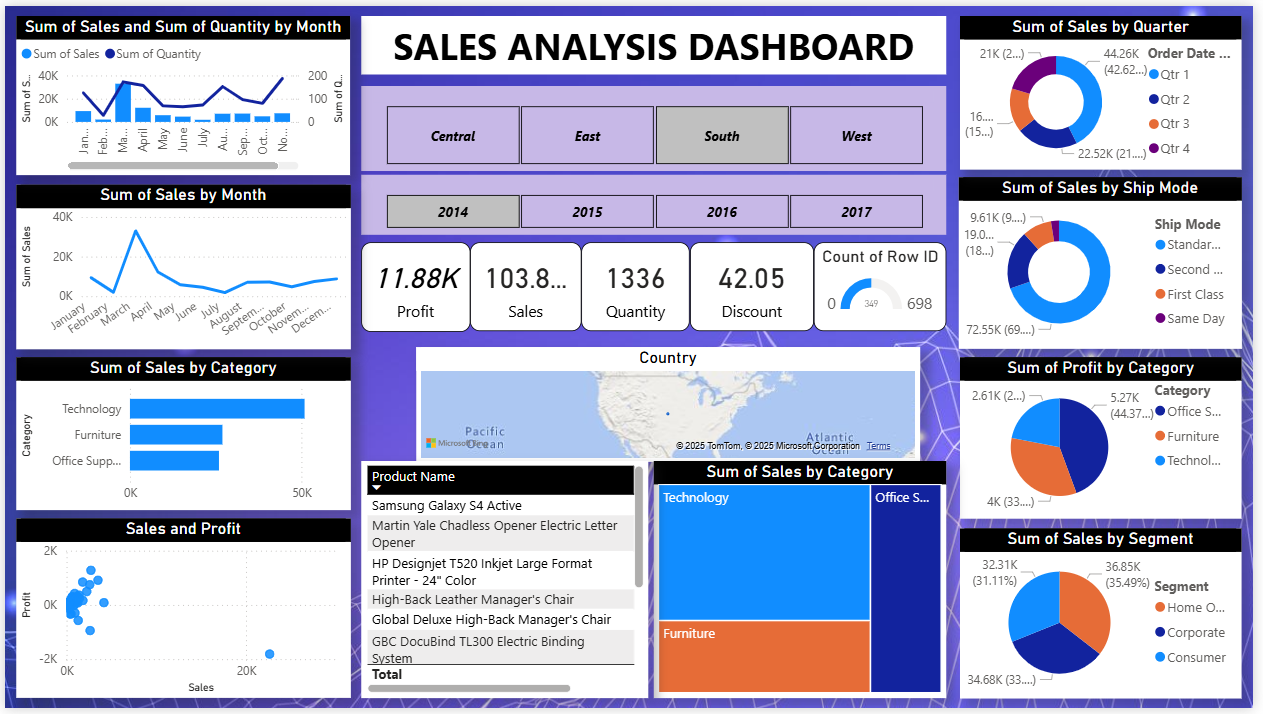

Layout of this report page (visuals, bound fields, positions):
{"tool":"powerbi","page":{"name":"Page 1","canvas":[1280,720],"ordinal":0},"visuals":[{"type":"slicer","fields":{"Values":["sample_-_superstore xls - Order.Region"]},"box":[365.7,81.4,600,87.1],"z":0},{"type":"textbox","box":[365.4,10.3,600,60.3],"z":1000},{"type":"card","fields":{"Values":["Sum(sample_-_superstore xls - Order.Profit)"]},"box":[365.6,242.9,111.7,92],"z":2000},{"type":"card","fields":{"Values":["Sum(sample_-_superstore xls - Order.Sales)"]},"box":[477.1,242.9,114.3,91.4],"z":3000},{"type":"card","fields":{"Values":["Sum(sample_-_superstore xls - Order.Quantity)"]},"box":[591.4,242.9,111.4,91.4],"z":4000},{"type":"card","fields":{"Values":["Sum(sample_-_superstore xls - Order.Discount)"]},"box":[702.9,242.9,127.1,91.4],"z":5000},{"type":"gauge","fields":{"Y":["CountNonNull(sample_-_superstore xls - Order.Row ID)"]},"box":[830,242.9,135.7,91.4],"z":6000},{"type":"slicer","fields":{"Values":["sample_-_superstore xls - Order.Order Date.Variation.Date Hierarchy.Year"]},"box":[365.7,172.9,600,61.4],"z":7000},{"type":"barChart","fields":{"Category":["sample_-_superstore xls - Order.Category"],"Y":["Sum(sample_-_superstore xls - Order.Sales)"]},"box":[11.4,360,342.9,157.1],"z":8000},{"type":"lineChart","fields":{"Y":["Sum(sample_-_superstore xls - Order.Sales)"],"Category":["sample_-_superstore xls - Order.Order Date.Variation.Date Hierarchy.Month"]},"box":[11.4,182.9,342.9,168.6],"z":9000},{"type":"scatterChart","fields":{"X":["sample_-_superstore xls - Order.Sales"],"Y":["sample_-_superstore xls - Order.Profit"]},"box":[11.4,525.7,342.9,184.3],"z":10000},{"type":"pieChart","fields":{"Category":["sample_-_superstore xls - Order.Category"],"Y":["Sum(sample_-_superstore xls - Order.Profit)"]},"box":[980,360,288.6,165.7],"z":11000},{"type":"map","fields":{"Category":["sample_-_superstore xls - Order.Country"]},"box":[422.1,349.7,516.6,117.8],"z":12000},{"type":"treemap","fields":{"Values":["Sum(sample_-_superstore xls - Order.Sales)"],"Group":["sample_-_superstore xls - Order.Category"]},"box":[665.7,467.1,300,242.9],"z":13000},{"type":"lineClusteredColumnComboChart","fields":{"Category":["sample_-_superstore xls - Order.Order Date.Variation.Date Hierarchy.Month"],"Y":["Sum(sample_-_superstore xls - Order.Sales)"],"Y2":["Sum(sample_-_superstore xls - Order.Quantity)"]},"box":[11.5,10.3,342.3,162.8],"z":14000},{"type":"tableEx","fields":{"Values":["sample_-_superstore xls - Order.Product Name","Sum(sample_-_superstore xls - Order.Sales)"]},"box":[365.7,467.1,294.3,242.9],"z":15000},{"type":"donutChart","fields":{"Category":["sample_-_superstore xls - Order.Ship Mode"],"Y":["Sum(sample_-_superstore xls - Order.Sales)"]},"box":[978.6,175.7,290,175.7],"z":16000},{"type":"pieChart","fields":{"Category":["sample_-_superstore xls - Order.Segment"],"Y":["Sum(sample_-_superstore xls - Order.Sales)"]},"box":[979.5,535.9,288.5,174.4],"z":17000},{"type":"donutChart","fields":{"Category":["sample_-_superstore xls - Order.Order Date.Variation.Date Hierarchy.Quarter"],"Y":["Sum(sample_-_superstore xls - Order.Sales)"]},"box":[979.5,10.3,288.5,157.7],"z":18000}]}

Visuals, with their boxes in screenshot pixels (x1, y1, x2, y2), scaled from the page's 1280x720 canvas onto the 1263x714 screenshot:
slicer - sample_-_superstore xls - Order.Region: x1=361, y1=81, x2=953, y2=167
textbox: x1=361, y1=10, x2=953, y2=70
card - Sum(sample_-_superstore xls - Order.Profit): x1=361, y1=241, x2=471, y2=332
card - Sum(sample_-_superstore xls - Order.Sales): x1=471, y1=241, x2=584, y2=332
card - Sum(sample_-_superstore xls - Order.Quantity): x1=584, y1=241, x2=693, y2=332
card - Sum(sample_-_superstore xls - Order.Discount): x1=694, y1=241, x2=819, y2=332
gauge - CountNonNull(sample_-_superstore xls - Order.Row ID): x1=819, y1=241, x2=953, y2=332
slicer - sample_-_superstore xls - Order.Order Date.Variation.Date Hierarchy.Year: x1=361, y1=171, x2=953, y2=232
barChart - sample_-_superstore xls - Order.Category x Sum(sample_-_superstore xls - Order.Sales): x1=11, y1=357, x2=350, y2=513
lineChart - Sum(sample_-_superstore xls - Order.Sales) x sample_-_superstore xls - Order.Order Date.Variation.Date Hierarchy.Month: x1=11, y1=181, x2=350, y2=349
scatterChart - sample_-_superstore xls - Order.Sales x sample_-_superstore xls - Order.Profit: x1=11, y1=521, x2=350, y2=704
pieChart - sample_-_superstore xls - Order.Category x Sum(sample_-_superstore xls - Order.Profit): x1=967, y1=357, x2=1252, y2=521
map - sample_-_superstore xls - Order.Country: x1=416, y1=347, x2=926, y2=464
treemap - Sum(sample_-_superstore xls - Order.Sales) x sample_-_superstore xls - Order.Category: x1=657, y1=463, x2=953, y2=704
lineClusteredColumnComboChart - sample_-_superstore xls - Order.Order Date.Variation.Date Hierarchy.Month x Sum(sample_-_superstore xls - Order.Sales): x1=11, y1=10, x2=349, y2=172
tableEx - sample_-_superstore xls - Order.Product Name x Sum(sample_-_superstore xls - Order.Sales): x1=361, y1=463, x2=651, y2=704
donutChart - sample_-_superstore xls - Order.Ship Mode x Sum(sample_-_superstore xls - Order.Sales): x1=966, y1=174, x2=1252, y2=348
pieChart - sample_-_superstore xls - Order.Segment x Sum(sample_-_superstore xls - Order.Sales): x1=966, y1=531, x2=1251, y2=704
donutChart - sample_-_superstore xls - Order.Order Date.Variation.Date Hierarchy.Quarter x Sum(sample_-_superstore xls - Order.Sales): x1=966, y1=10, x2=1251, y2=167
